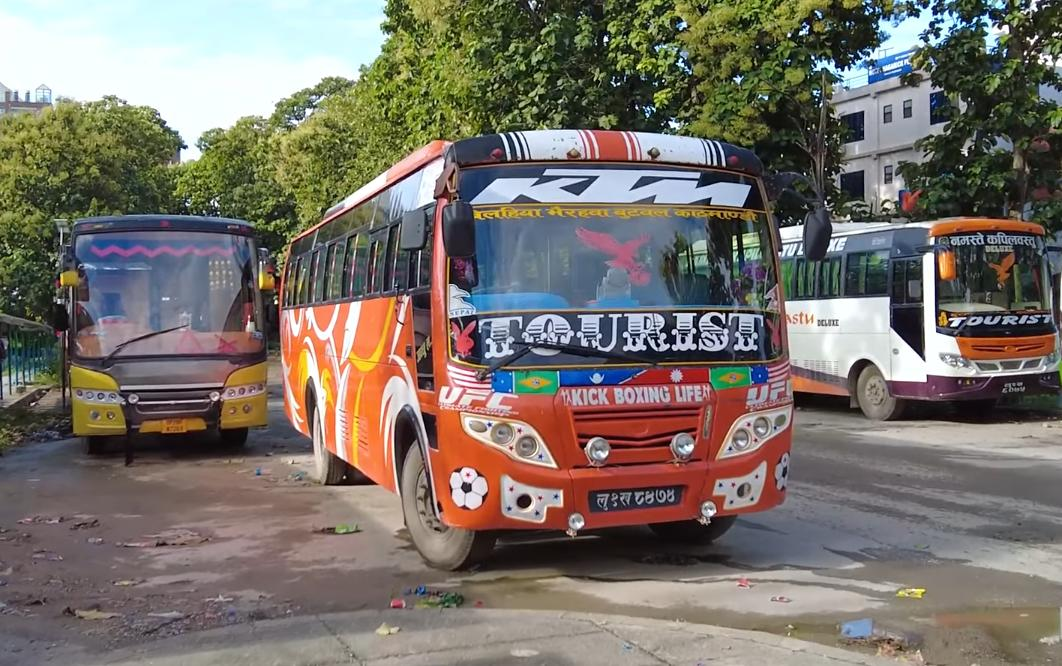bus: (266, 125, 795, 582), (744, 209, 1062, 433), (51, 206, 275, 463)
